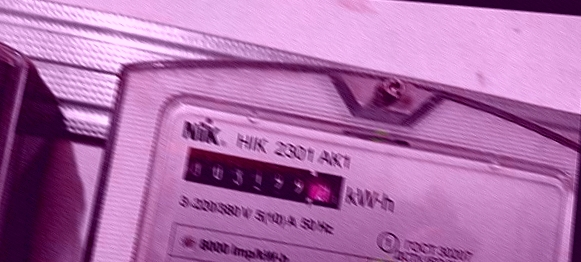0: (187, 158, 202, 178), (210, 161, 223, 181)
1: (252, 166, 263, 185)
3: (231, 167, 241, 186)
6: (313, 188, 324, 205)
9: (291, 177, 303, 196), (272, 171, 282, 190)
screen: (174, 142, 352, 218)
